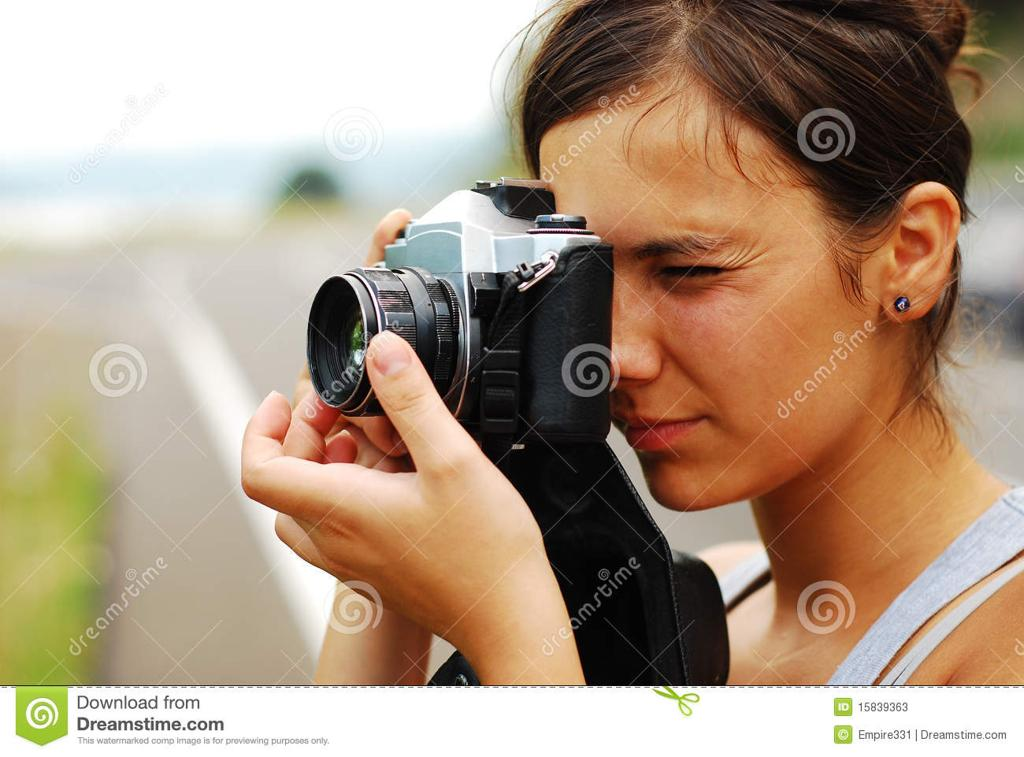face: (544, 98, 866, 504)
